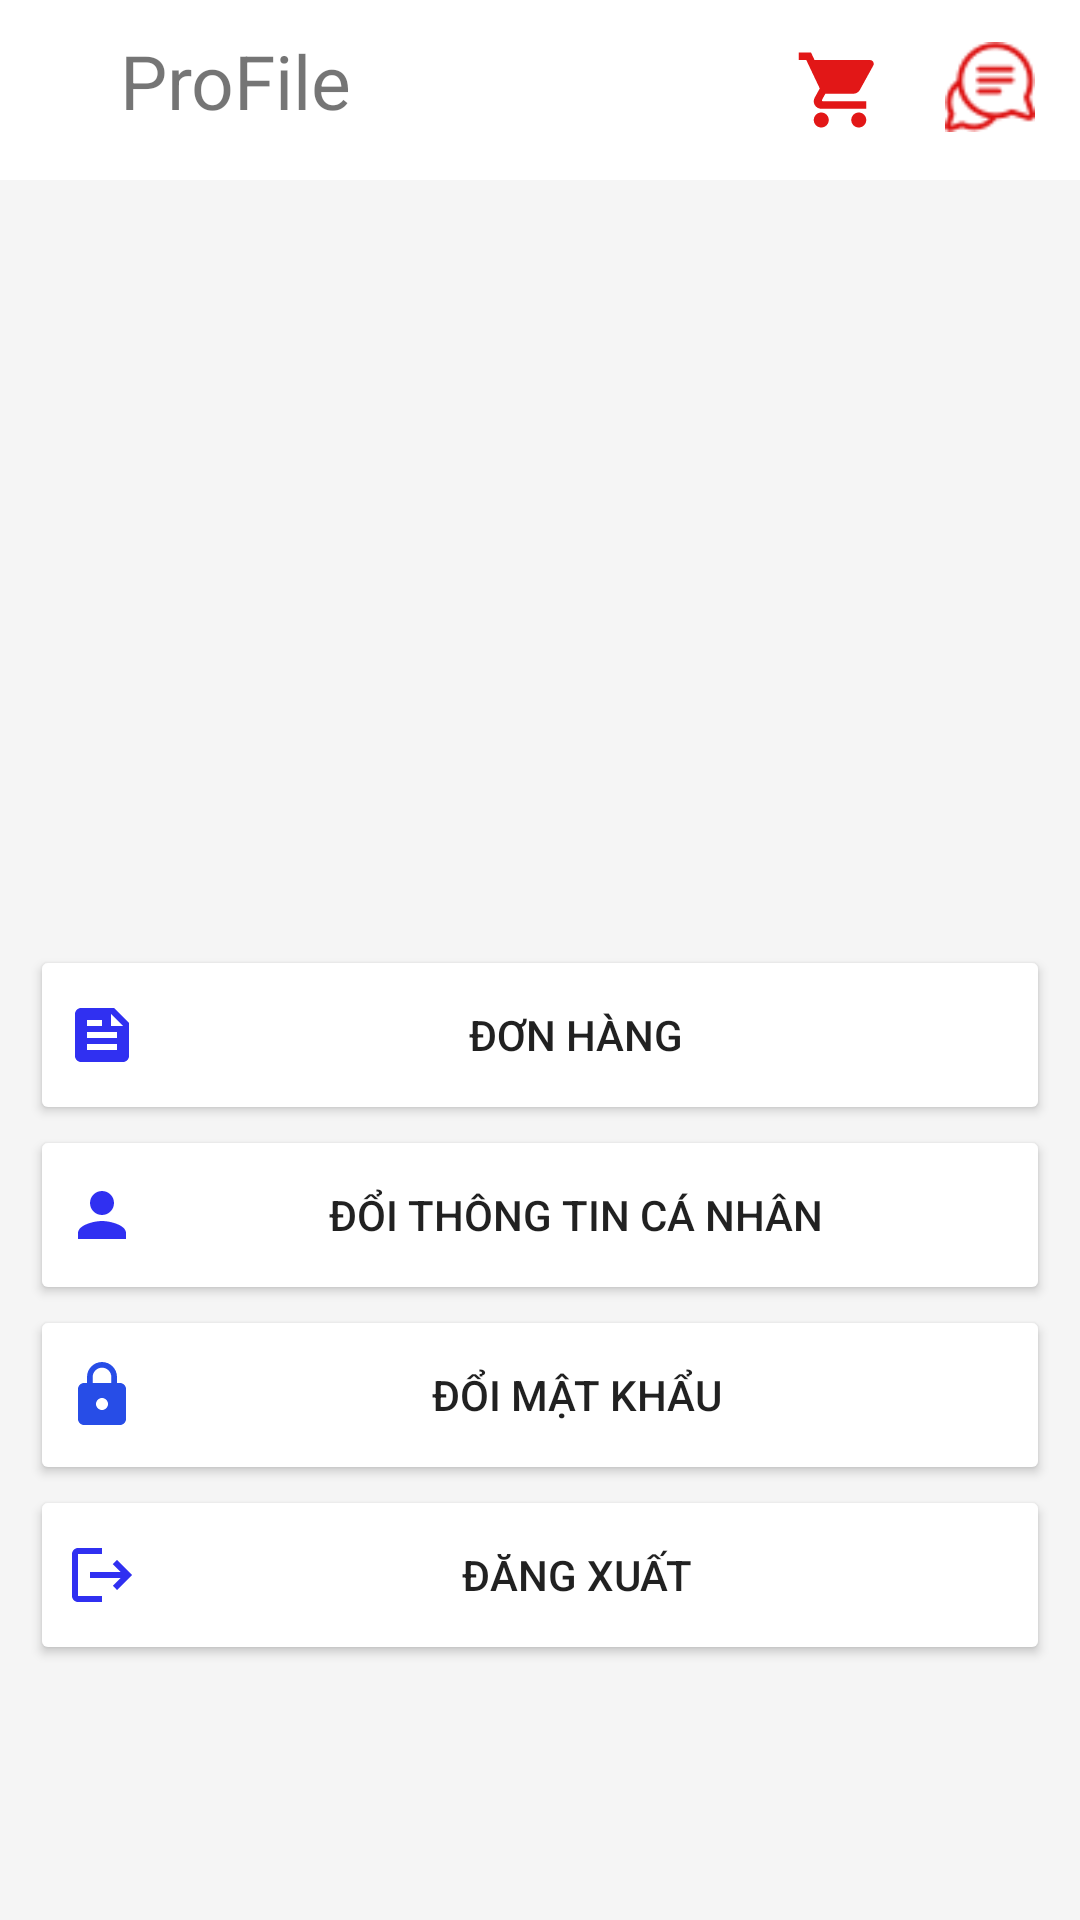

Icon bounding boxes for this 1080px x 1920px phone screenshot, format (x1, y1, x2, y2):
conversation: (945, 42, 1035, 132)
shopping cart: (798, 52, 874, 128)
